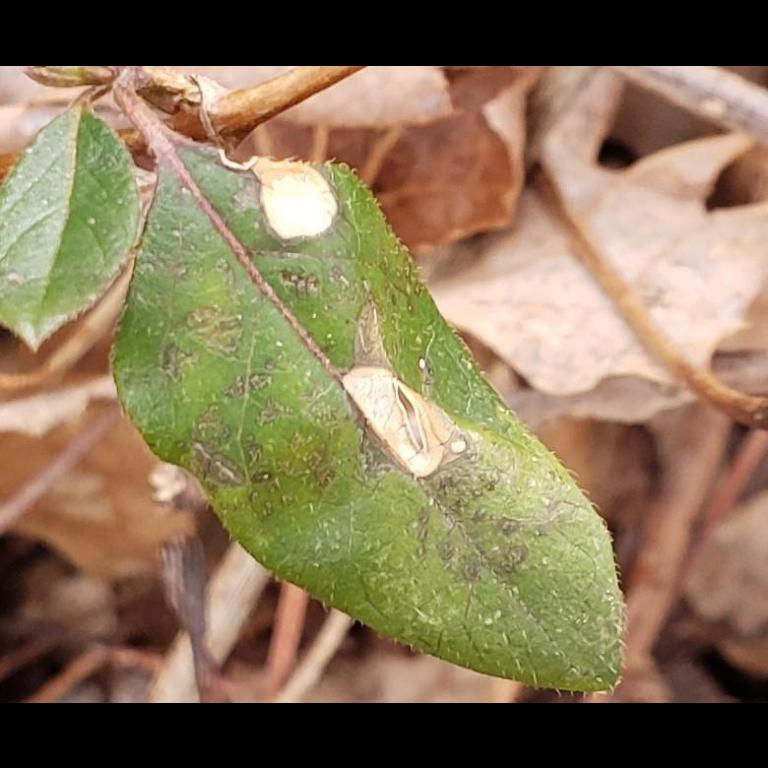blight: (323, 337, 483, 506), (228, 144, 348, 256)
